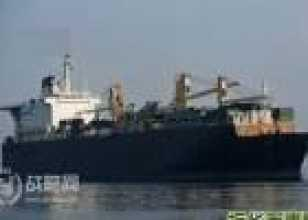Cargoship: (4, 52, 307, 178)
